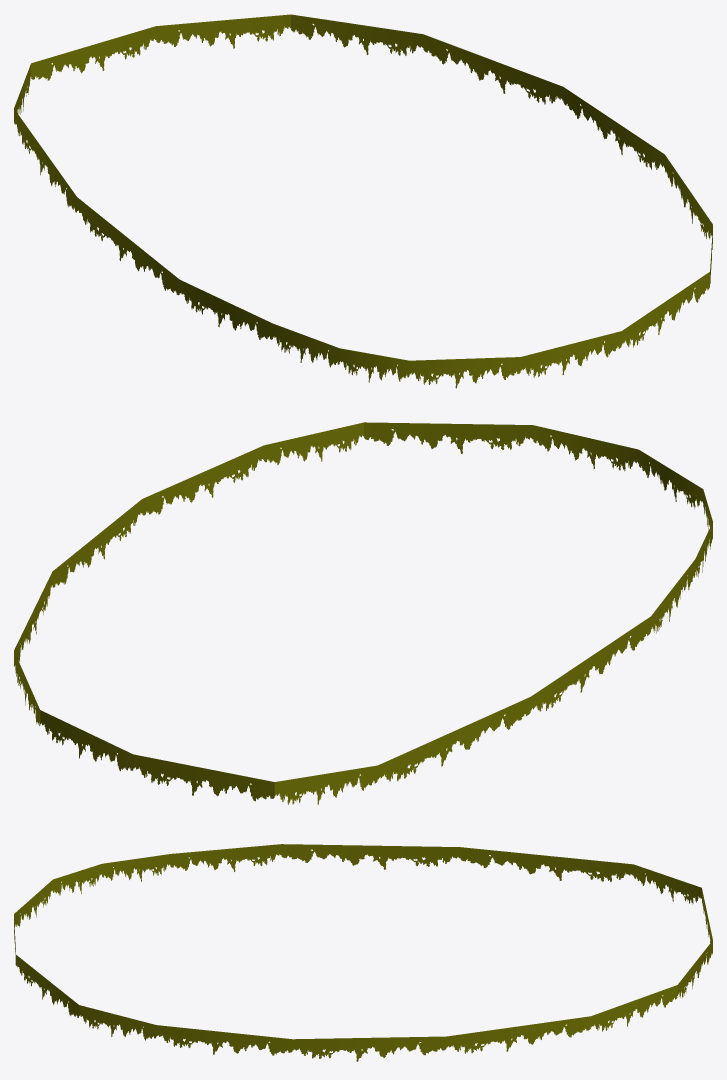
The model's file is grassTopFringe_C.fbx.
3 views of the same model, one above another, from view 1: azimuth 30°, elevation 25°; view 2: azimuth 150°, elevation 25°; view 3: azimuth 270°, elevation 25° (orthographic). The views are drawn at different scales.
Visible parts, largest first — view 1: grassTopFringe_C; view 2: grassTopFringe_C; view 3: grassTopFringe_C.
Part boxes in pixels (<box>): grassTopFringe_C: <box>14,14,712,388</box>; grassTopFringe_C: <box>14,422,712,804</box>; grassTopFringe_C: <box>14,844,712,1061</box>.
Bounding box in the file's own units: 1570 × 100 × 2377.
